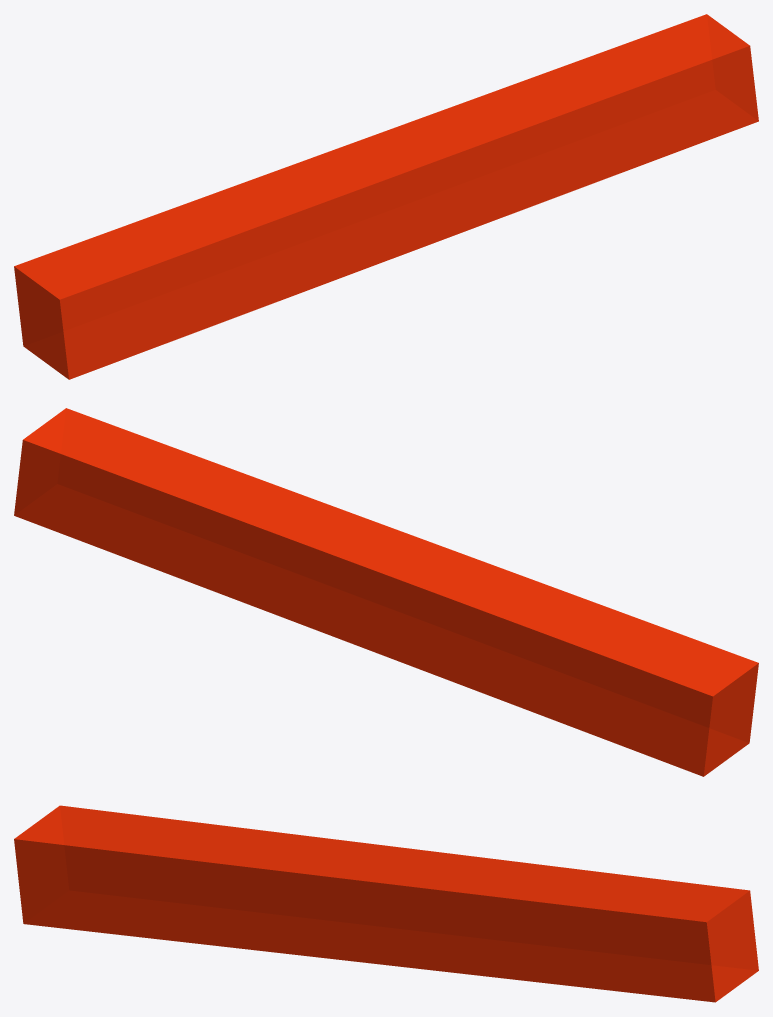
File: Event_421115418_EErechit_57.fbx
The picture shows the model from 3 angles, top to bottom: view 1: azimuth 30°, elevation 25°; view 2: azimuth 150°, elevation 25°; view 3: azimuth 330°, elevation 25°; orthographic projection.
Parts seen in each view (by area): view 1: Model; view 2: Model; view 3: Model.
Part boxes in pixels (bbox=[...]): Model: bbox=[14, 14, 758, 379]; Model: bbox=[14, 408, 758, 776]; Model: bbox=[14, 805, 758, 1002].
Size of the model in its own units: 0.6773 by 0.1555 by 0.0768.
